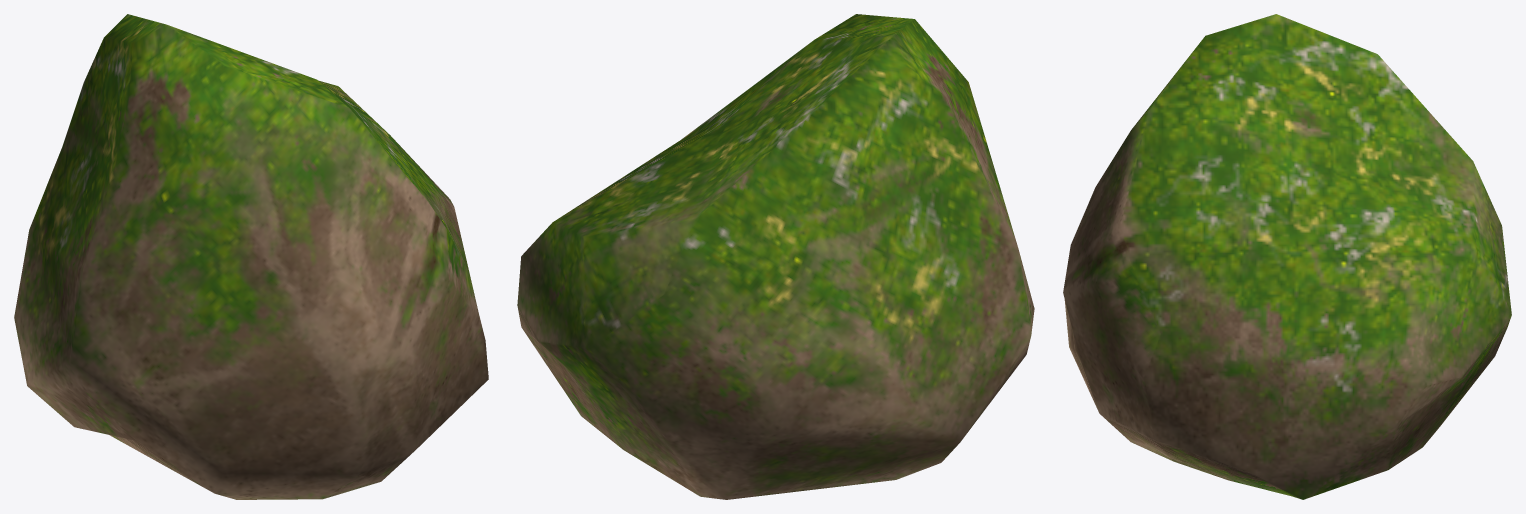
The model's file is sb_obj_nature007_Rock04c.fbx.
3 renders of one model, left to right at view 1: azimuth 30°, elevation 25°; view 2: azimuth 150°, elevation 25°; view 3: azimuth 270°, elevation 25°, orthographic. The views are drawn at different scales.
Visible parts, largest first — view 1: sb_obj_nature007_Rock04c; view 2: sb_obj_nature007_Rock04c; view 3: sb_obj_nature007_Rock04c.
Part boxes in pixels (<box>): sb_obj_nature007_Rock04c: <box>14,14,488,499</box>; sb_obj_nature007_Rock04c: <box>517,14,1034,499</box>; sb_obj_nature007_Rock04c: <box>1063,14,1511,499</box>.
Size of the model in its own units: 1.08 by 1.07 by 1.13.
